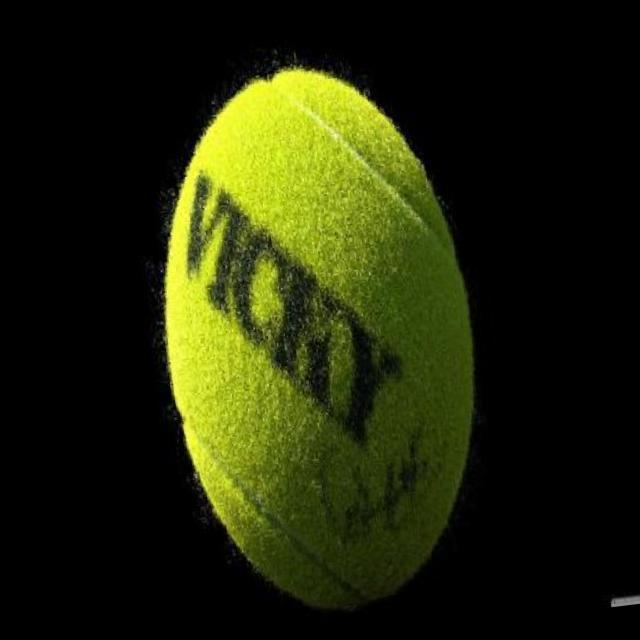-: (116, 35, 515, 640)
